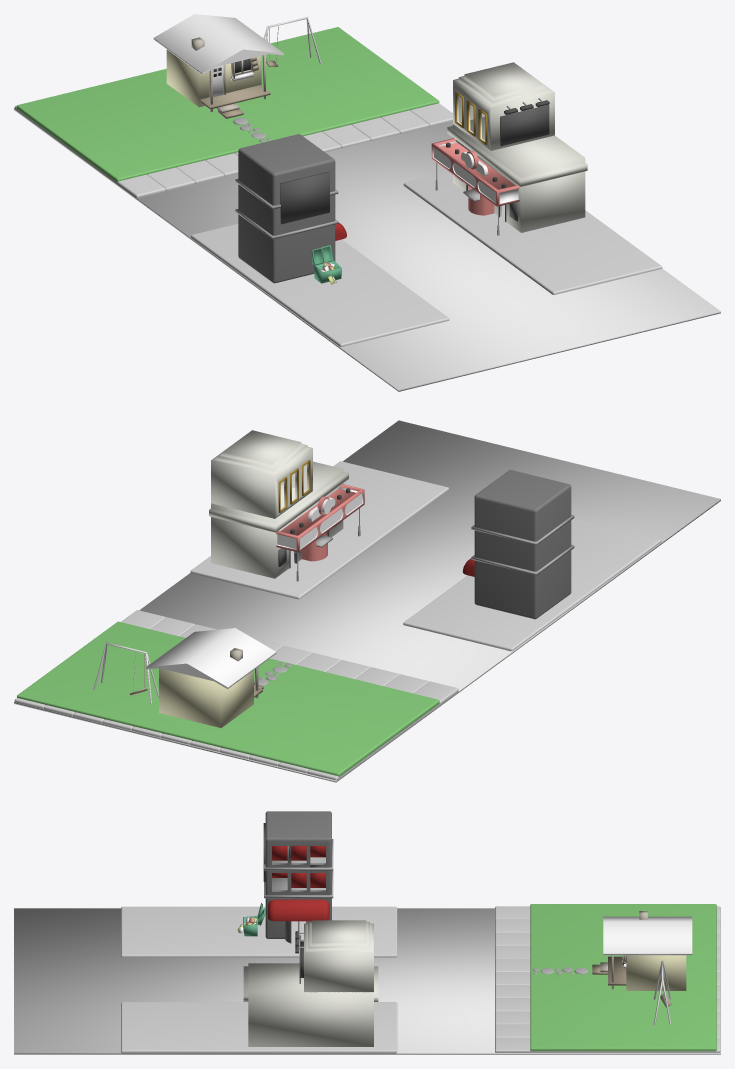
The model's file is basetown3.gltf.
3 views of the same model, one above another, from view 1: azimuth 30°, elevation 25°; view 2: azimuth 150°, elevation 25°; view 3: azimuth 270°, elevation 25° (orthographic). The views are drawn at different scales.
Parts seen in each view (by area): view 1: Ground, Grass, Left_road, Right_road, Cube_4_5, Theater_Main, Cube_2_9, Extrude_2, Billboard_2, Cube_2_3, Billboard_2_2, theater_overhang (+9 smaller); view 2: Ground, Grass, Cube_4_5, Left_road, Right_road, Cube_2_9, Theater_Main, Cube_2_3, Extrude_2, theater_overhang, Cube_2_8, Cube_29_2 (+7 smaller); view 3: Ground, Grass, Left_road, Right_road, Theater_Main, Cube_2_9, Cube_4_5, Extrude_2, Cube_2_3, Cylinder_13, Cube_39, floor2 (+12 smaller).
Part boxes in pixels (bbox=[...]): Ground: bbox=[14, 108, 720, 391]; Grass: bbox=[16, 27, 439, 182]; Left_road: bbox=[191, 223, 449, 346]; Right_road: bbox=[403, 172, 662, 294]; Cube_4_5: bbox=[238, 134, 335, 283]; Theater_Main: bbox=[453, 116, 585, 232]; Cube_2_9: bbox=[453, 62, 554, 150]; Extrude_2: bbox=[153, 14, 283, 74]; Billboard_2: bbox=[280, 171, 329, 224]; Cube_2_3: bbox=[166, 49, 261, 107]; Billboard_2_2: bbox=[500, 105, 549, 146]; theater_overhang: bbox=[431, 138, 519, 206]; Ground: bbox=[14, 420, 720, 782]; Grass: bbox=[17, 621, 439, 776]; Cube_4_5: bbox=[474, 470, 571, 619]; Left_road: bbox=[403, 518, 661, 651]; Right_road: bbox=[190, 461, 448, 599]; Cube_2_9: bbox=[211, 430, 312, 518]; Theater_Main: bbox=[211, 461, 343, 578]; Cube_2_3: bbox=[159, 668, 253, 728]; Extrude_2: bbox=[146, 628, 276, 688]; theater_overhang: bbox=[276, 484, 364, 552]; Cube_2_8: bbox=[209, 471, 348, 532]; Cube_29_2: bbox=[307, 681, 458, 780]; Ground: bbox=[14, 908, 720, 1054]; Grass: bbox=[530, 904, 716, 1051]; Left_road: bbox=[121, 906, 397, 957]; Right_road: bbox=[121, 1002, 397, 1053]; Theater_Main: bbox=[248, 963, 373, 1046]; Cube_2_9: bbox=[304, 920, 373, 992]; Cube_4_5: bbox=[265, 811, 331, 938]; Extrude_2: bbox=[603, 916, 692, 955]; Cube_2_3: bbox=[626, 955, 686, 990]; Cylinder_13: bbox=[268, 899, 329, 921]; Cube_39: bbox=[495, 1037, 720, 1052]; floor2: bbox=[264, 870, 333, 898].
Bounding box in the file's own units: 52.2 × 17.7 × 108.
